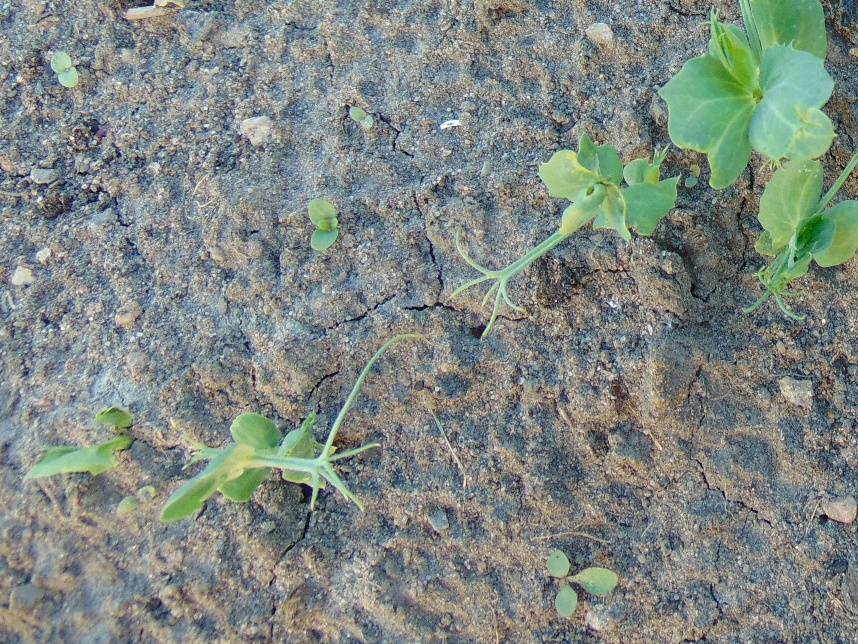crop: (645, 1, 858, 188), (158, 374, 385, 538), (456, 137, 683, 301), (749, 151, 858, 317), (22, 405, 137, 483)
weed: (545, 547, 617, 616), (305, 197, 340, 250), (51, 50, 80, 88)
